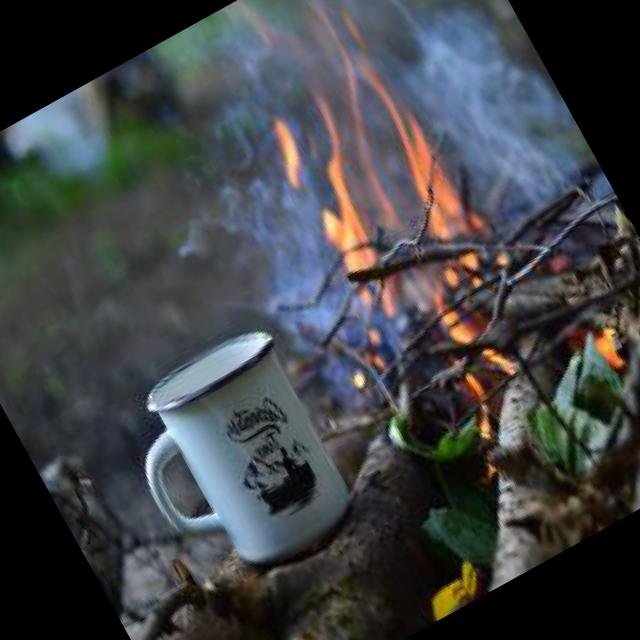fire: (267, 67, 506, 341)
smoke: (122, 76, 402, 428), (327, 0, 626, 277)
